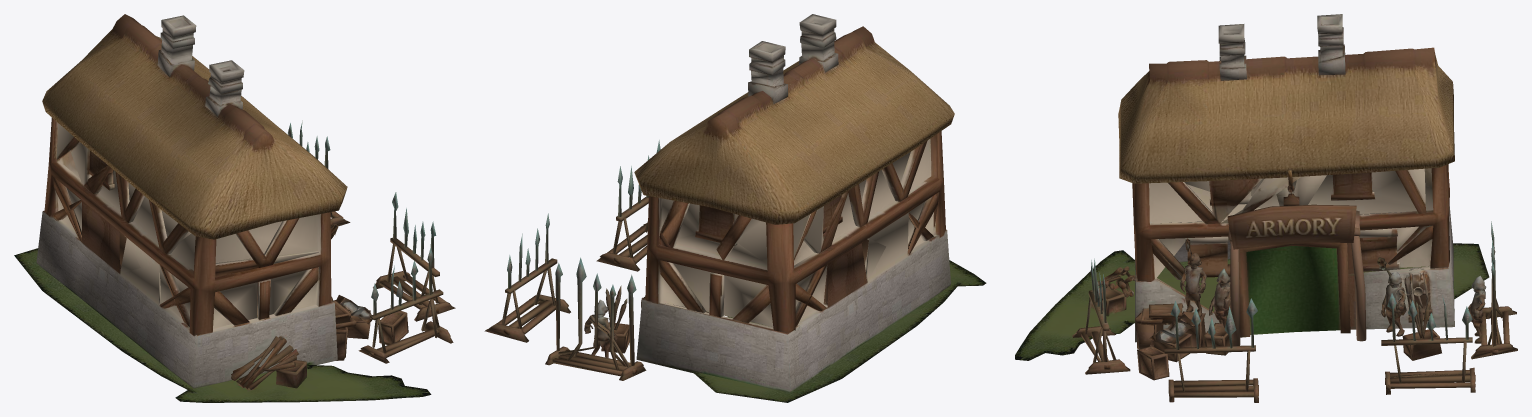
File: armory.glb
3 views of the same model, side by side, from view 1: azimuth 30°, elevation 25°; view 2: azimuth 150°, elevation 25°; view 3: azimuth 270°, elevation 25° (orthographic). The views are drawn at different scales.
Visible parts, largest first — view 1: tripo_node_25f4a727-e939-4ab6-a37c-738dee8ad415; view 2: tripo_node_25f4a727-e939-4ab6-a37c-738dee8ad415; view 3: tripo_node_25f4a727-e939-4ab6-a37c-738dee8ad415.
Part boxes in pixels (x1=…): tripo_node_25f4a727-e939-4ab6-a37c-738dee8ad415: x1=14, y1=14, x2=455, y2=402; tripo_node_25f4a727-e939-4ab6-a37c-738dee8ad415: x1=484, y1=14, x2=986, y2=402; tripo_node_25f4a727-e939-4ab6-a37c-738dee8ad415: x1=1015, y1=14, x2=1517, y2=402.
Bounding box in the file's own units: 4.44 × 4 × 6.21.
1 material, 1 textured.
